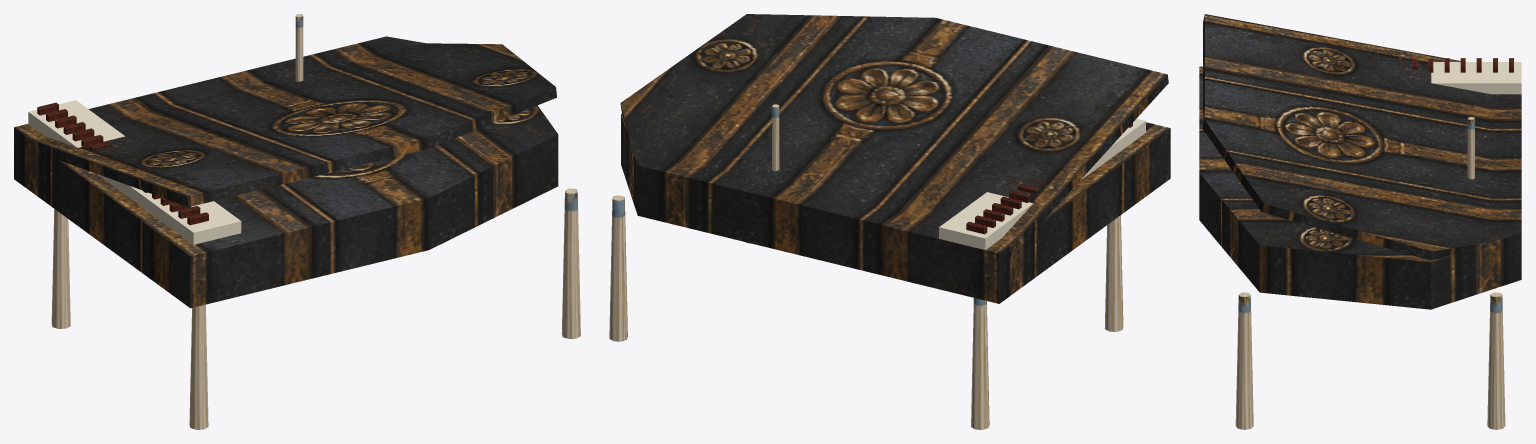
Rendered from grand-piano.gltf.
The picture shows the model from 3 angles, left to right: view 1: azimuth 30°, elevation 25°; view 2: azimuth 150°, elevation 25°; view 3: azimuth 270°, elevation 25°; orthographic projection. The views are drawn at different scales.
Visible parts, largest first — view 1: kit:0:furniture:mahogany:, kit:0:furniture:gold:, kit:0:furniture:ivory:, kit:0:furniture:bronze:; view 2: kit:0:furniture:mahogany:, kit:0:furniture:gold:, kit:0:furniture:ivory:, kit:0:furniture:bronze:; view 3: kit:0:furniture:mahogany:, kit:0:furniture:gold:, kit:0:furniture:ivory:, kit:0:furniture:bronze:.
Part boxes in pixels (box(x1,y1,x2,y2)): kit:0:furniture:mahogany:: box(14, 36, 558, 308); kit:0:furniture:gold:: box(51, 14, 580, 429); kit:0:furniture:ivory:: box(28, 100, 241, 244); kit:0:furniture:bronze:: box(37, 102, 208, 225); kit:0:furniture:mahogany:: box(620, 14, 1170, 303); kit:0:furniture:gold:: box(609, 104, 1123, 429); kit:0:furniture:ivory:: box(939, 118, 1145, 249); kit:0:furniture:bronze:: box(966, 123, 1132, 234); kit:0:furniture:mahogany:: box(1199, 14, 1521, 309); kit:0:furniture:gold:: box(1235, 117, 1505, 429); kit:0:furniture:ivory:: box(1431, 62, 1521, 94); kit:0:furniture:bronze:: box(1399, 58, 1513, 72).
Size of the model in its own units: 2.3 by 1.33 by 1.6.
Materials: 4 (3 with a texture image).
